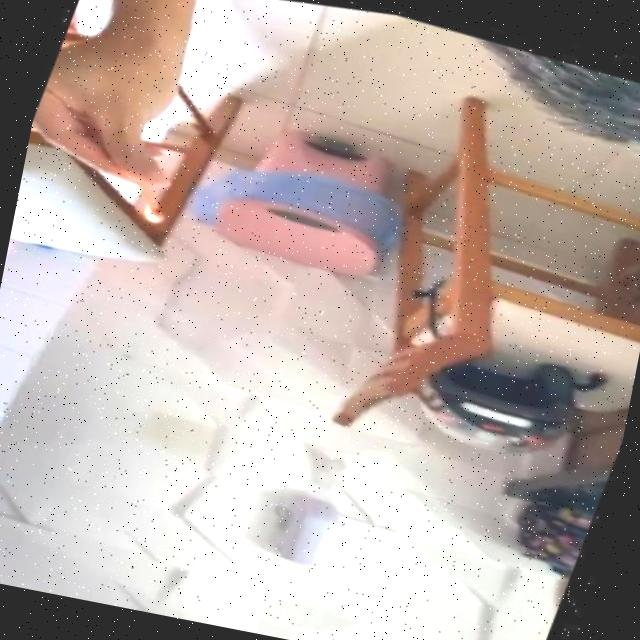fire: (139, 196, 173, 227)
